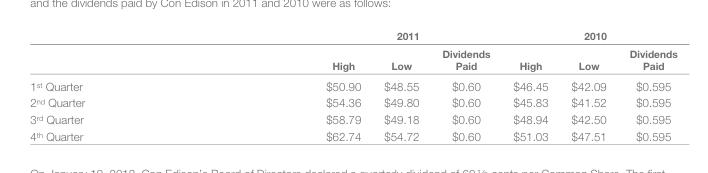table: (29, 28, 676, 142)
table column: (29, 28, 204, 142), (204, 28, 371, 142), (429, 28, 500, 142), (500, 28, 559, 142), (617, 28, 676, 142), (371, 28, 429, 142), (559, 28, 617, 142)
table column header: (29, 28, 676, 75)
table row: (29, 43, 676, 75), (29, 75, 676, 93), (29, 93, 676, 110), (29, 110, 676, 127), (29, 28, 676, 43), (29, 127, 676, 142)
table spanning cell: (204, 28, 500, 43), (500, 28, 676, 43)
